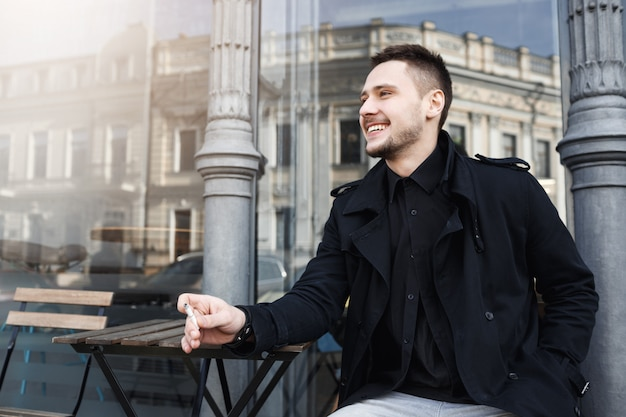cigarette: (182, 301, 202, 331)
